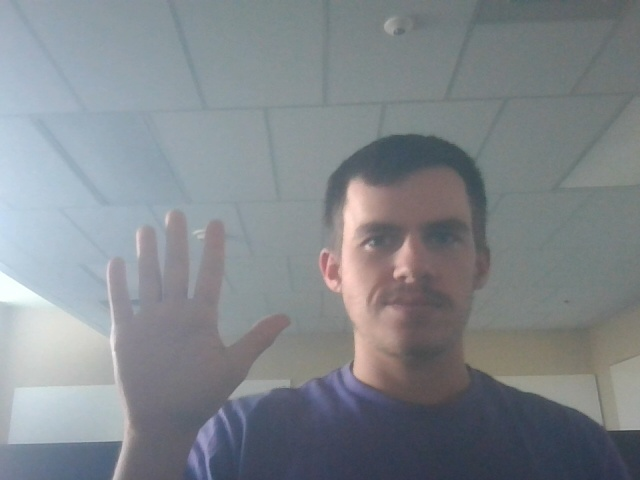hello: (94, 203, 299, 445)
